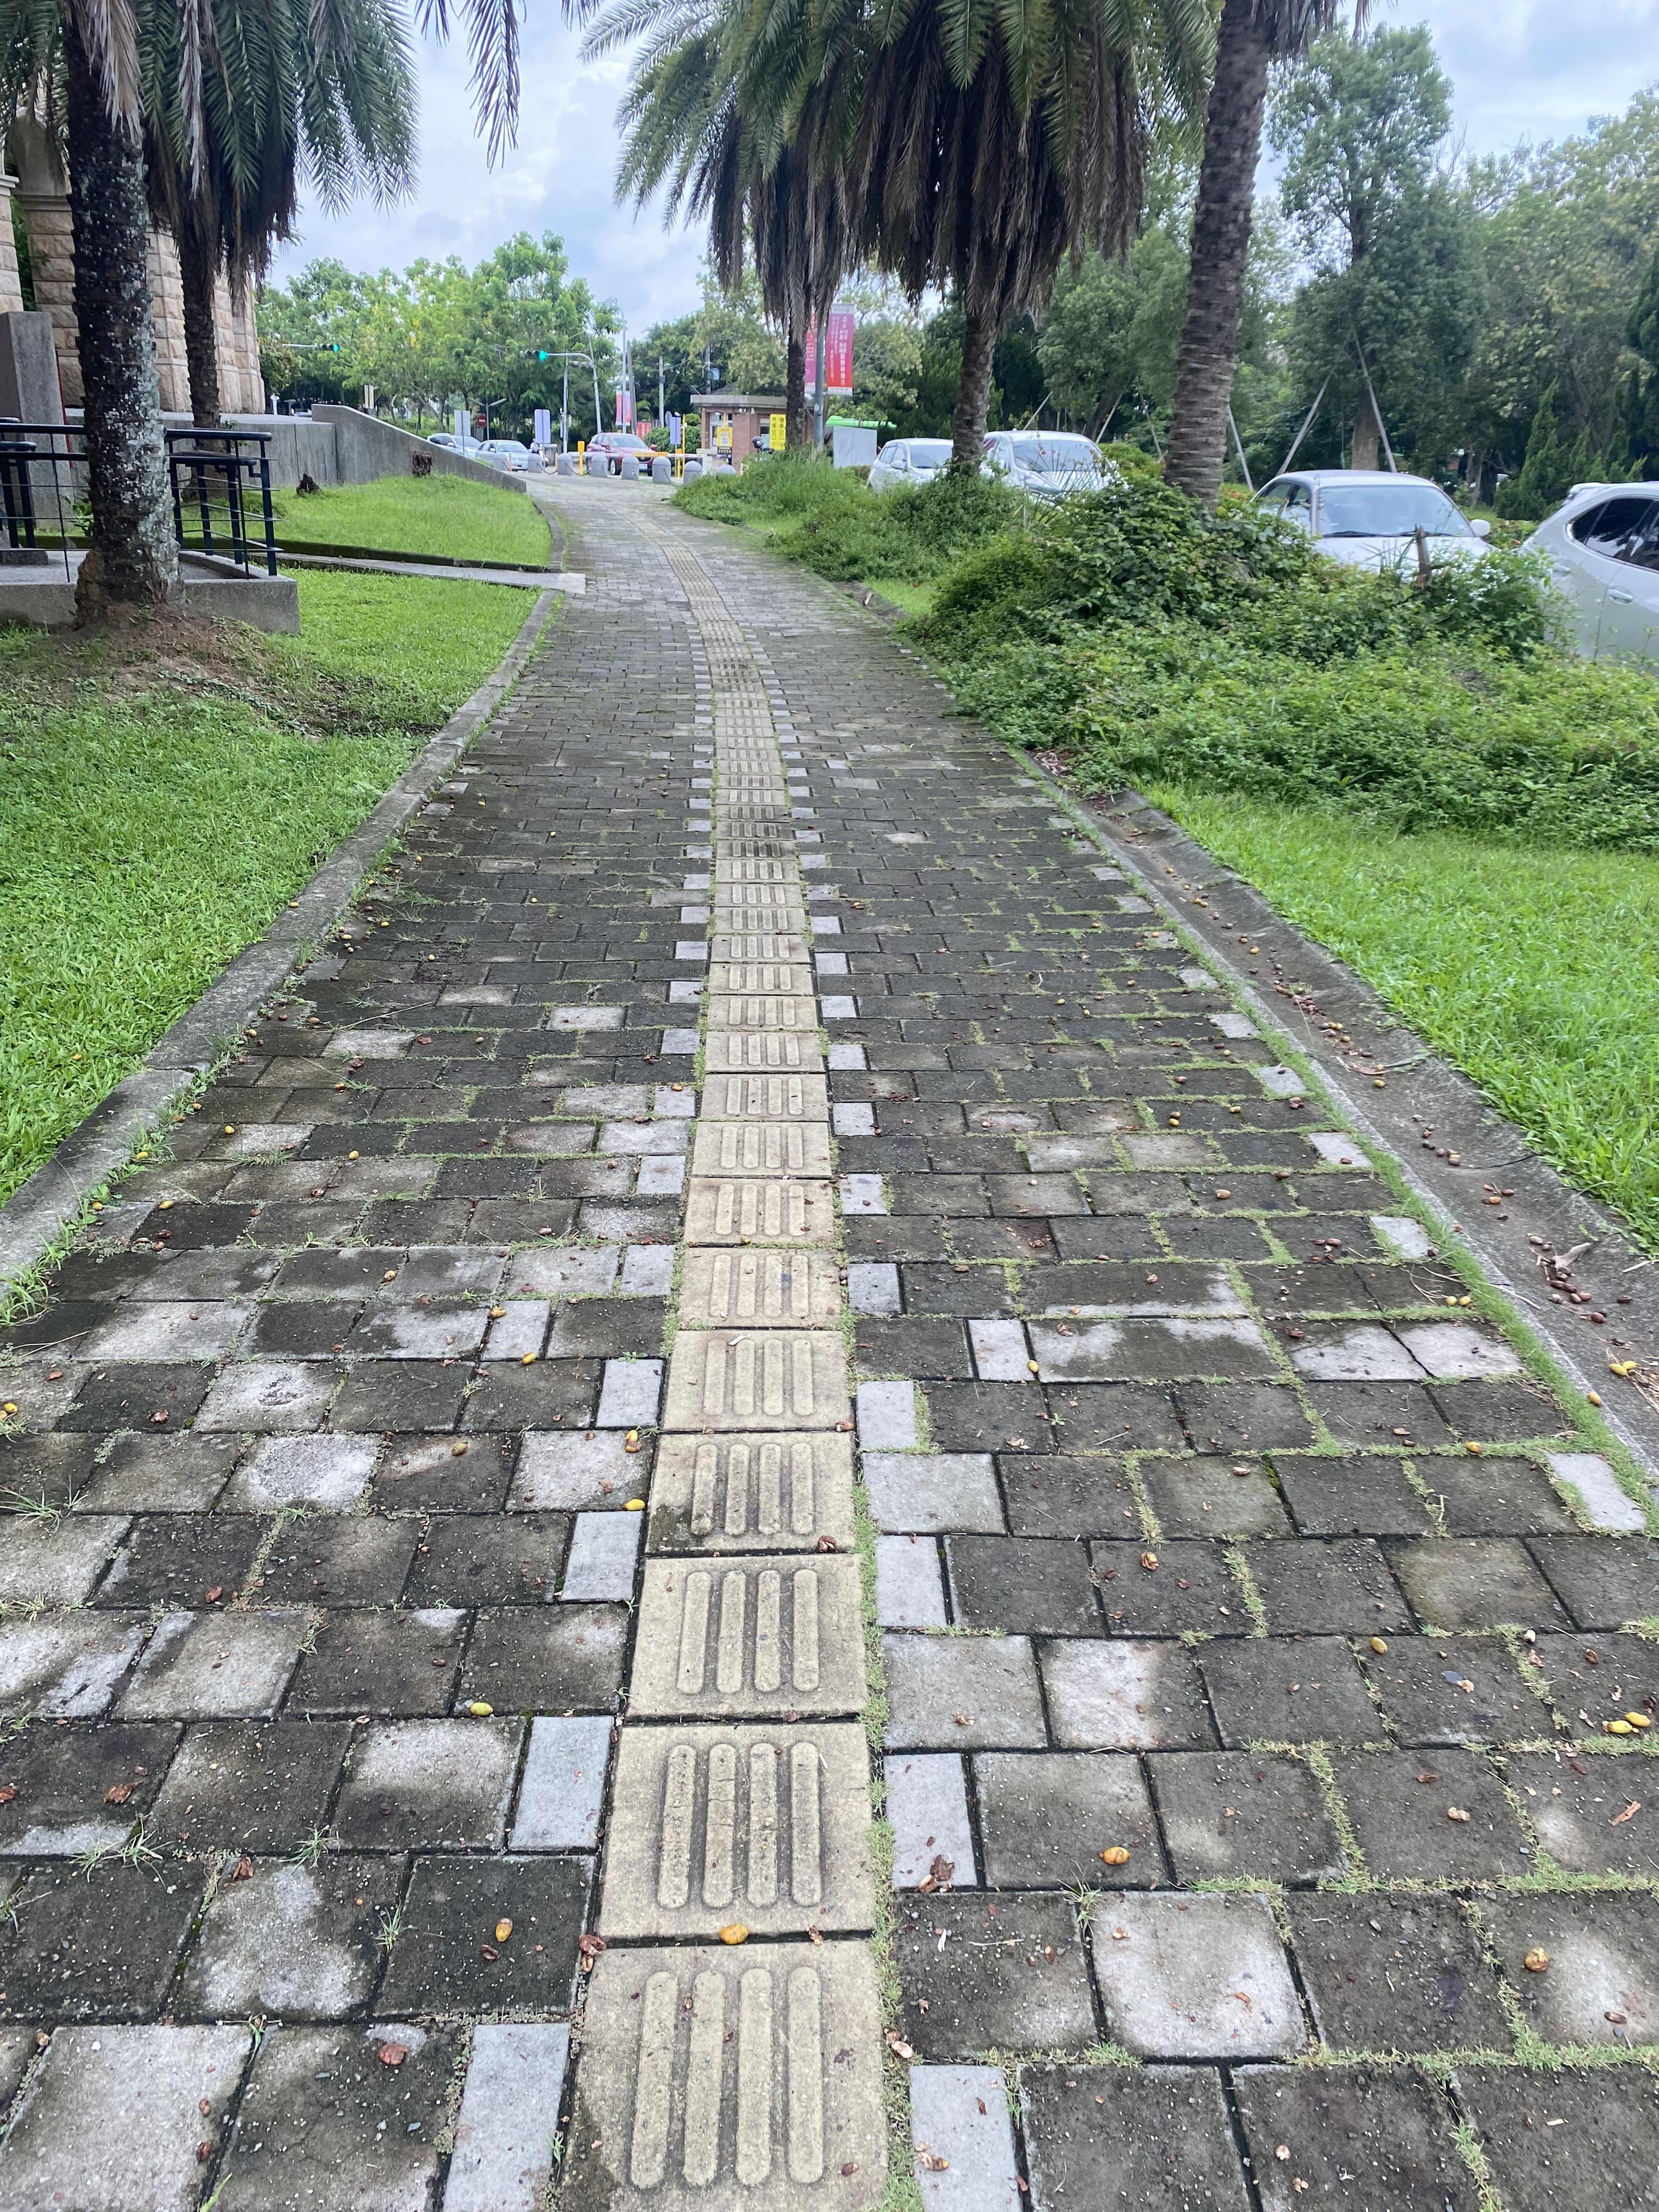0: (7, 693, 1659, 2212)
sidewalk: (491, 444, 1035, 1353)
